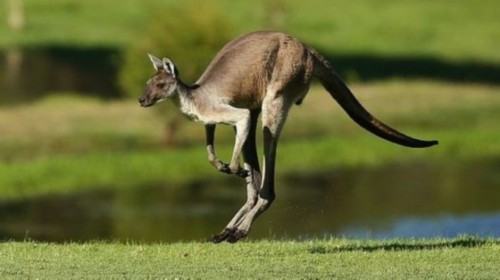kangaroo: (135, 25, 443, 245)
